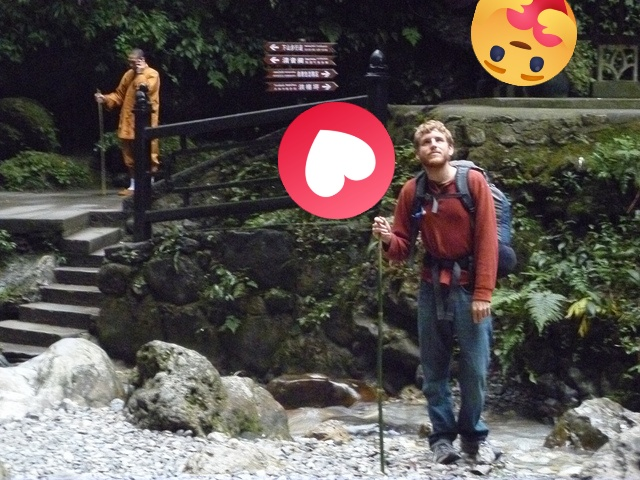care: (471, 0, 577, 86)
love: (278, 102, 395, 219)
